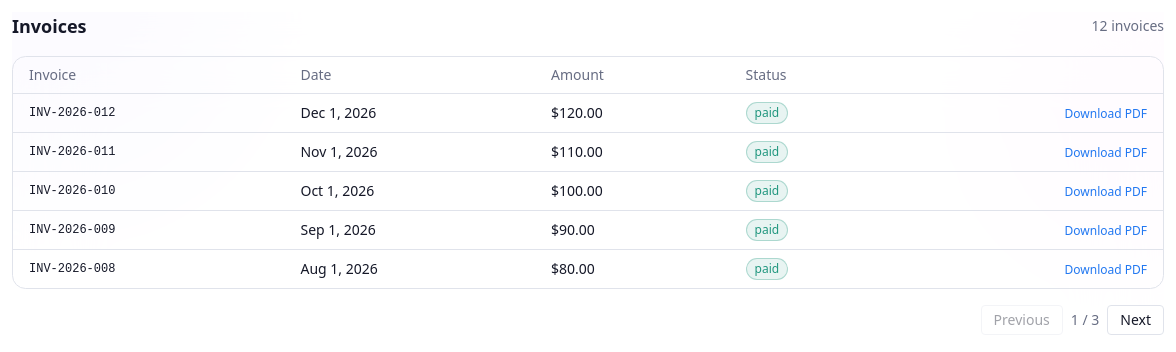
InvoiceList › shows pagination and navigates pages
The width and height of the screenshot is (1176, 352).
Expected: the navigation bar with test id "invoice-pagination" is shown, [981,305,1164,335]
Expected: the text with test id "invoice-page-label" reads "1 / 3", [1071,310,1099,330]
Go to page 2
What coordinates should you click on to do the following:
click the button with test id "invoice-next"
I would click on:
 (1136, 320)
Its box is [1107,305,1164,335].
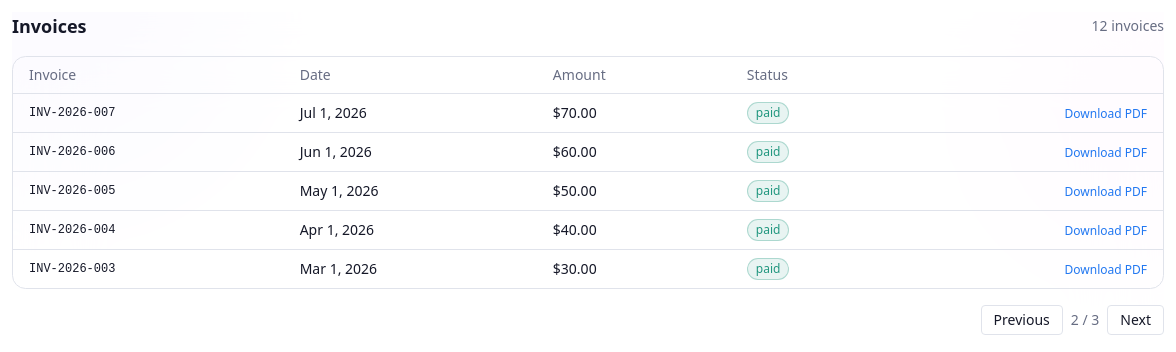
Expected: the text with test id "invoice-page-label" reads "2 / 3", [1071,310,1099,330]
Go back to page 1
What coordinates should you click on to do the following:
click the button with test id "invoice-prev"
I would click on:
 (1022, 320)
Its box is [981,305,1063,335].
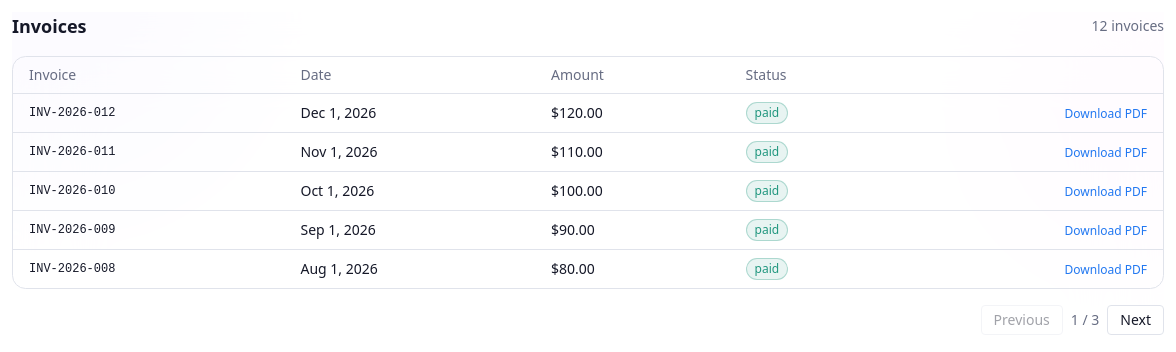
Expected: the text with test id "invoice-page-label" reads "1 / 3", [1071,310,1099,330]
